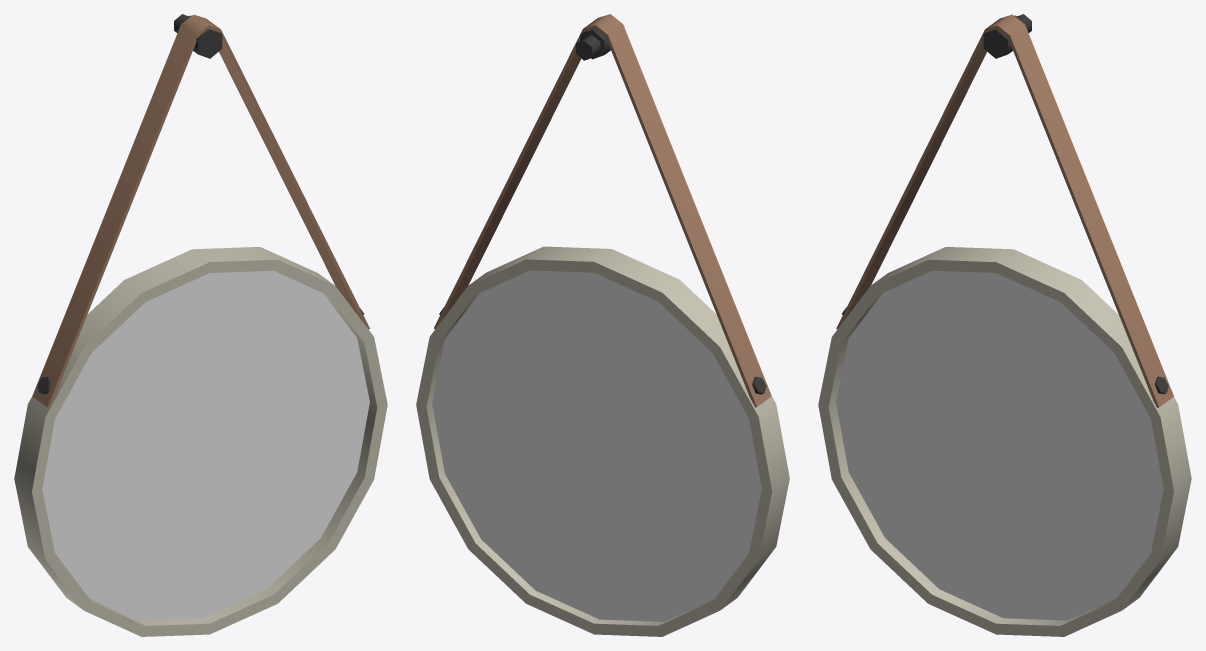
Rendered from Mirror_02.fbx.
3 renders of one model, left to right at view 1: azimuth 30°, elevation 25°; view 2: azimuth 150°, elevation 25°; view 3: azimuth 330°, elevation 25°, orthographic.
Parts seen in each view (by area): view 1: Mirror_02; view 2: Mirror_02; view 3: Mirror_02.
Boxes of the visible parts, bbox=[...] form: Mirror_02: bbox=[14, 14, 387, 636]; Mirror_02: bbox=[416, 14, 789, 636]; Mirror_02: bbox=[818, 14, 1191, 636].
Bounding box in the file's own units: 0.4639 × 0.7576 × 0.063.
